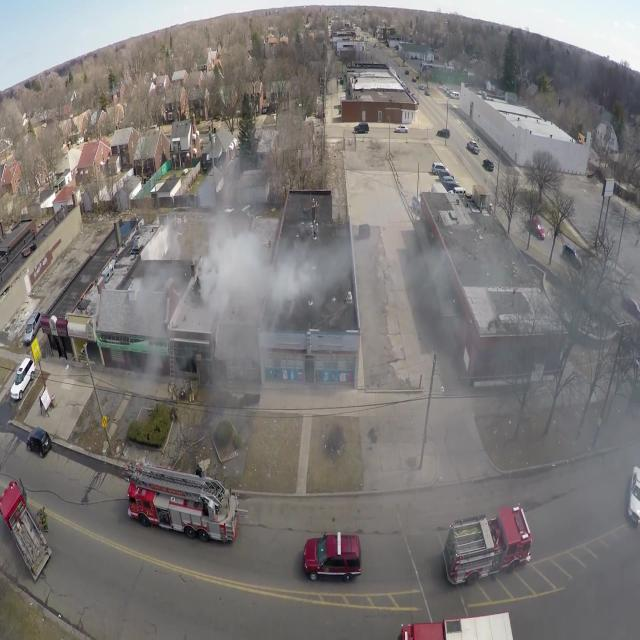Smoke: (140, 188, 325, 351)
